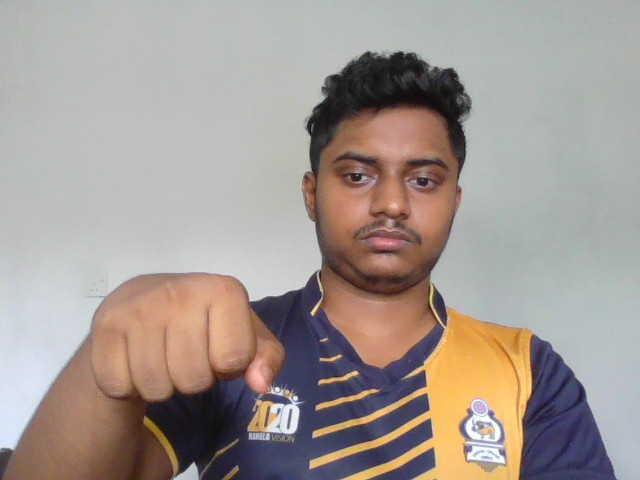Yes: (84, 269, 292, 401)
